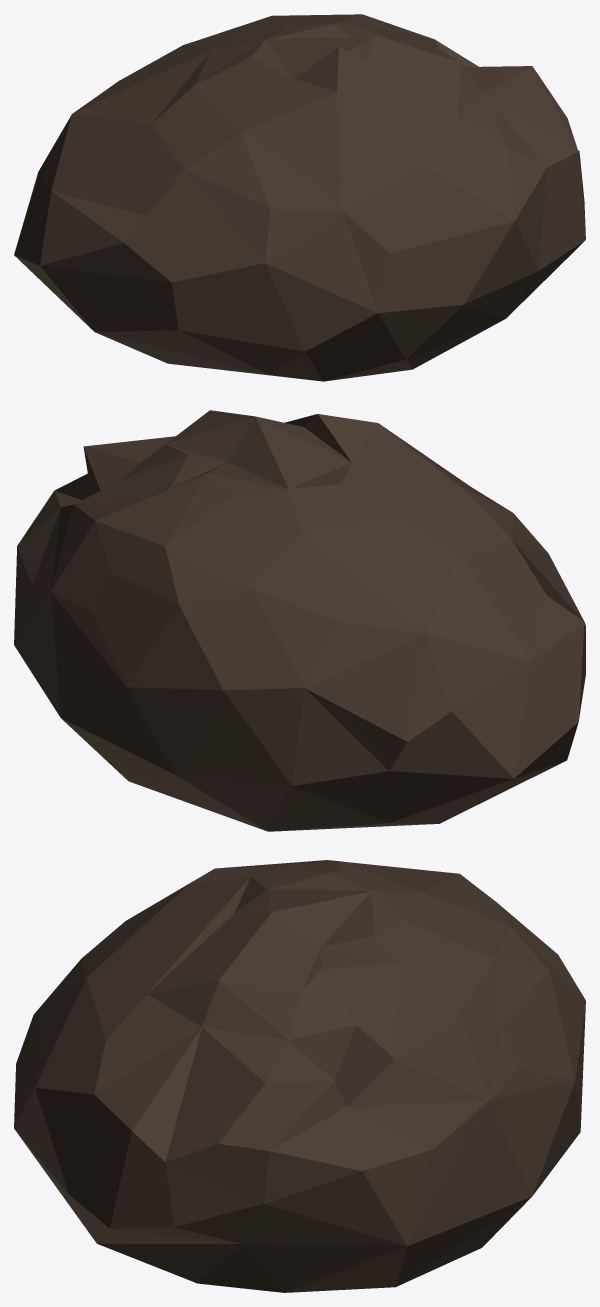
The model's file is rock2.glb.
3 views of the same model, one above another, from view 1: azimuth 30°, elevation 25°; view 2: azimuth 150°, elevation 25°; view 3: azimuth 270°, elevation 25° (orthographic). The views are drawn at different scales.
Parts seen in each view (by area): view 1: Icosphere; view 2: Icosphere; view 3: Icosphere.
Boxes of the visible parts, bbox=[...] form: Icosphere: bbox=[14, 14, 585, 381]; Icosphere: bbox=[14, 410, 585, 831]; Icosphere: bbox=[14, 860, 585, 1292].
Size of the model in its own units: 6.25 by 3.79 by 5.18.
